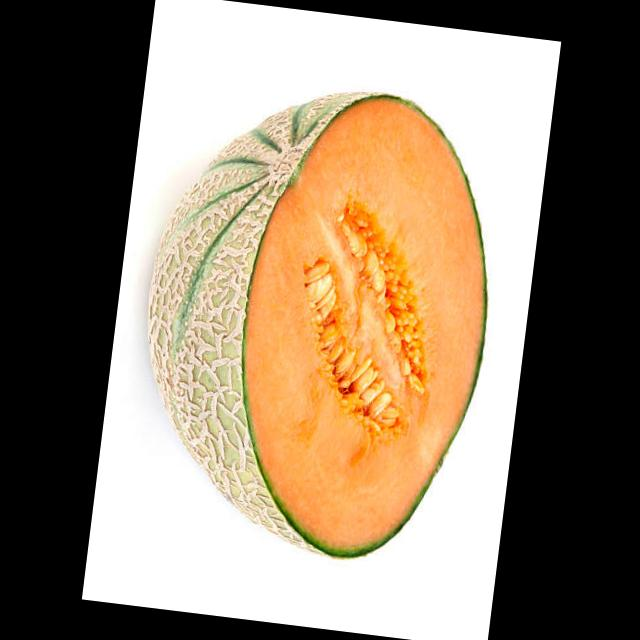Hami Melon: (116, 66, 514, 572)
